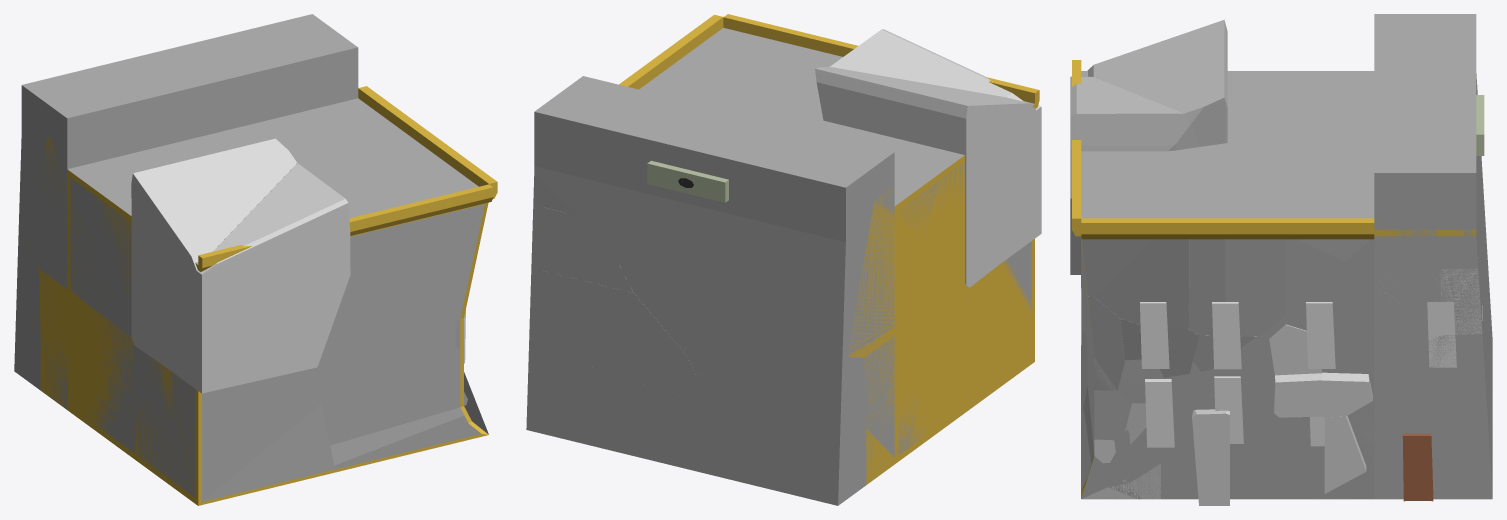
The model's file is MediumBuilding1.fbx.
3 renders of one model, left to right at view 1: azimuth 30°, elevation 25°; view 2: azimuth 150°, elevation 25°; view 3: azimuth 270°, elevation 25°, orthographic. The views are drawn at different scales.
Parts seen in each view (by area): view 1: Building, Building_cell.062, Building_cell.024, Building_cell.005, Building_cell.045, Building_cell.059, Building_cell.099, Building_cell.013, Building_cell.012, Building_cell.102, Building_cell.014, Building_cell.004 (+12 smaller); view 2: Building, Building_cell.024, Building_cell.099, Building_cell.063, Building_cell.005, Building_cell.015, Building_cell.007, Building_cell.062, Building_cell.059, Building_cell.058, Building_cell.012, Building_cell.102 (+12 smaller); view 3: Building, Building_cell.099, Building_cell.102, Building_cell.024, Building_cell.062, Building_cell.045, Building_cell.048, Building_cell.012, Building_cell.115, Building_cell.047, Building_cell.074, Building_cell.054 (+29 smaller).
Boxes of the visible parts, x1=… form: Building: x1=14, y1=42, x2=497, y2=505; Building_cell.062: x1=161, y1=163, x2=350, y2=393; Building_cell.024: x1=131, y1=138, x2=297, y2=363; Building_cell.005: x1=38, y1=269, x2=134, y2=436; Building_cell.045: x1=269, y1=51, x2=401, y2=154; Building_cell.059: x1=134, y1=356, x2=334, y2=505; Building_cell.099: x1=24, y1=129, x2=198, y2=314; Building_cell.013: x1=44, y1=92, x2=147, y2=146; Building_cell.012: x1=211, y1=22, x2=306, y2=78; Building_cell.102: x1=291, y1=120, x2=425, y2=173; Building_cell.014: x1=220, y1=74, x2=273, y2=146; Building_cell.004: x1=59, y1=62, x2=160, y2=115; Building: x1=534, y1=14, x2=1038, y2=505; Building_cell.024: x1=815, y1=66, x2=1036, y2=287; Building_cell.099: x1=801, y1=120, x2=964, y2=357; Building_cell.063: x1=529, y1=268, x2=695, y2=397; Building_cell.005: x1=864, y1=284, x2=968, y2=456; Building_cell.015: x1=682, y1=359, x2=866, y2=505; Building_cell.007: x1=526, y1=377, x2=684, y2=467; Building_cell.062: x1=830, y1=29, x2=1041, y2=264; Building_cell.059: x1=966, y1=260, x2=1034, y2=411; Building_cell.058: x1=531, y1=205, x2=633, y2=292; Building_cell.012: x1=572, y1=92, x2=699, y2=138; Building_cell.102: x1=629, y1=67, x2=823, y2=128; Building: x1=1072, y1=60, x2=1492, y2=501; Building_cell.099: x1=1227, y1=71, x2=1374, y2=149; Building_cell.102: x1=1225, y1=143, x2=1285, y2=336; Building_cell.024: x1=1087, y1=19, x2=1227, y2=146; Building_cell.062: x1=1070, y1=76, x2=1200, y2=274; Building_cell.045: x1=1283, y1=138, x2=1400, y2=278; Building_cell.048: x1=1094, y1=223, x2=1189, y2=329; Building_cell.012: x1=1374, y1=113, x2=1476, y2=153; Building_cell.115: x1=1188, y1=223, x2=1225, y2=335; Building_cell.047: x1=1192, y1=392, x2=1243, y2=505; Building_cell.074: x1=1394, y1=184, x2=1437, y2=269; Building_cell.054: x1=1275, y1=148, x2=1416, y2=222.
Size of the model in its own units: 1257 by 1165 by 1361.
